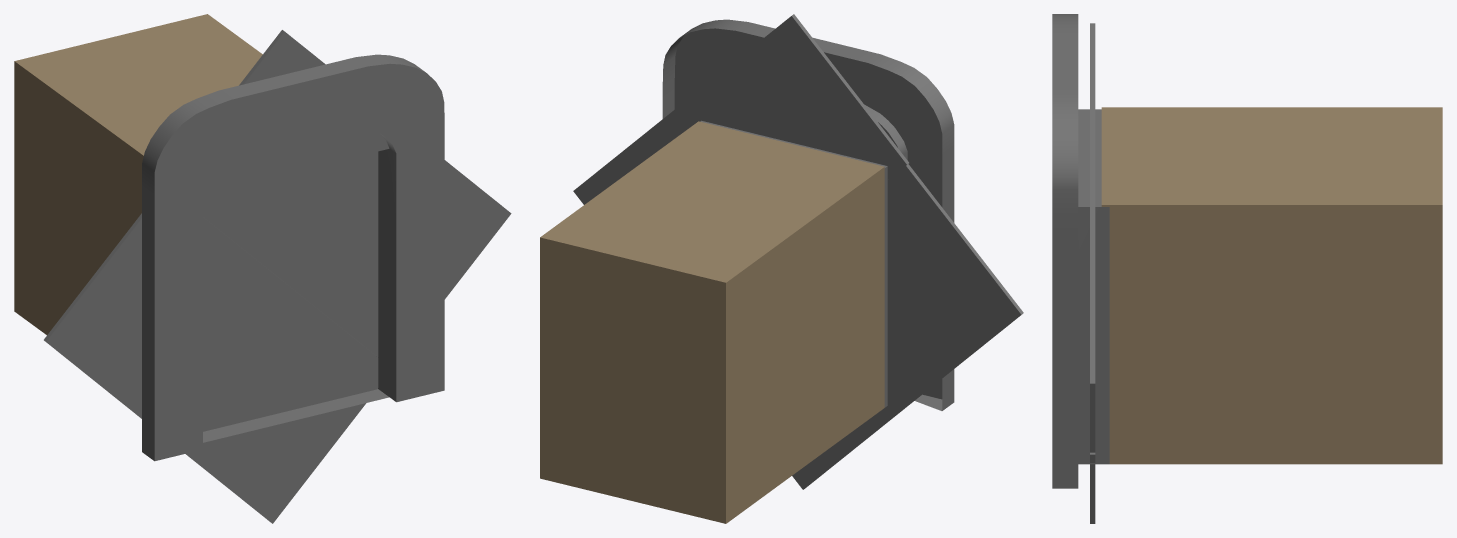
Rendered from Seguranca_Elevador.fbx.
3 views of the same model, side by side, from view 1: azimuth 30°, elevation 25°; view 2: azimuth 150°, elevation 25°; view 3: azimuth 270°, elevation 25° (orthographic). The views are drawn at different scales.
Visible parts, largest first — view 1: ext, ex_door_l, elevator, ex_door_r; view 2: elevator, ex_door_l, ex_door_r, ext; view 3: elevator, ext, ex_door_r.
Part boxes in pixels (x1=…): ext: x1=142, y1=54, x2=444, y2=461; ex_door_l: x1=44, y1=213, x2=378, y2=523; elevator: x1=14, y1=14, x2=262, y2=334; ex_door_r: x1=203, y1=30, x2=511, y2=356; elevator: x1=540, y1=121, x2=884, y2=523; ex_door_l: x1=792, y1=164, x2=1023, y2=489; ex_door_r: x1=573, y1=14, x2=908, y2=204; ext: x1=662, y1=19, x2=954, y2=410; elevator: x1=1101, y1=107, x2=1442, y2=464; ext: x1=1052, y1=14, x2=1109, y2=488; ex_door_r: x1=1090, y1=23, x2=1095, y2=452.
Bounding box in the file's own units: 5.19 × 5.22 × 3.64.
